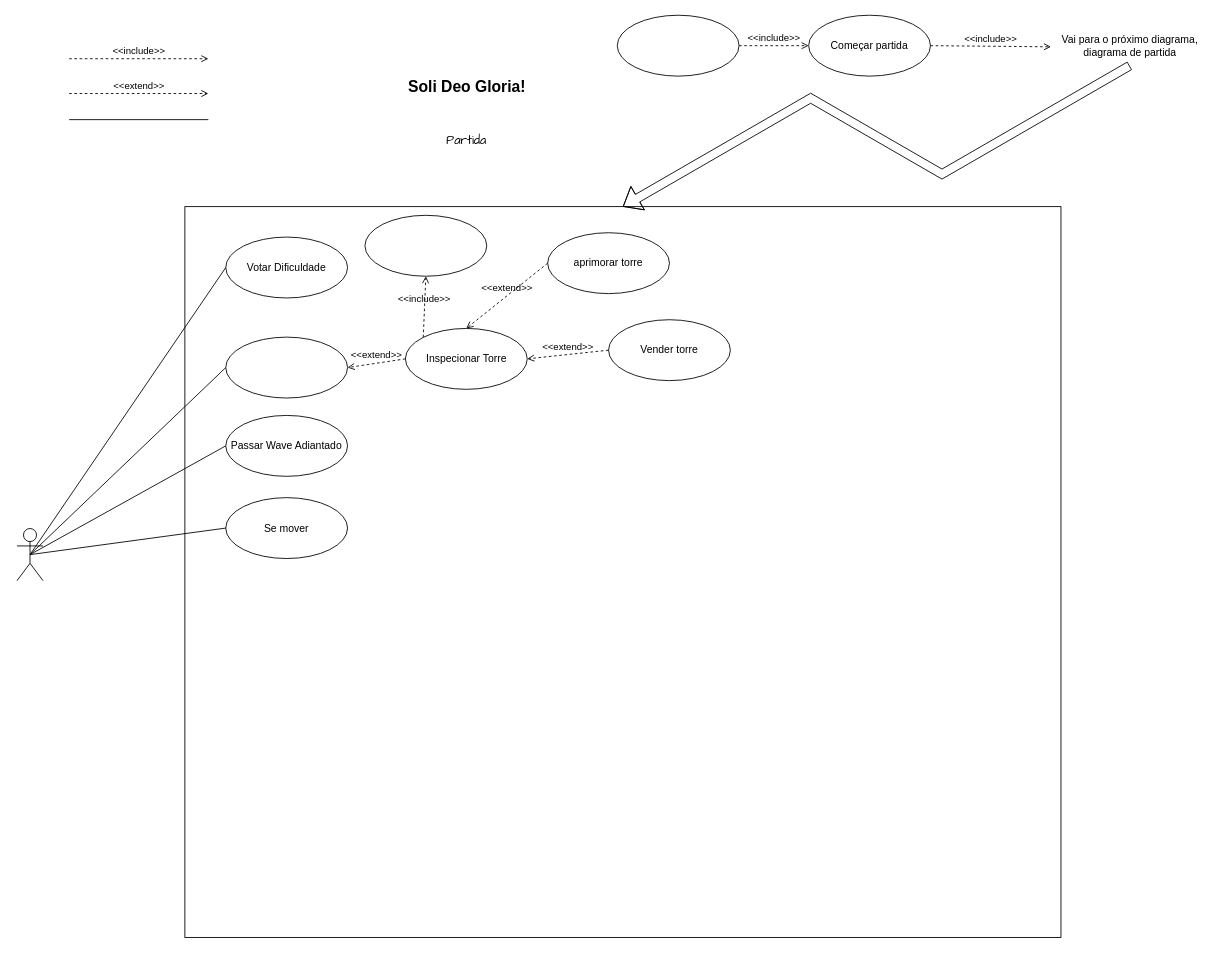
The diagram is 1222 pixels wide and 953 high, and some of its shapes have lost their labels. The centre of each missing label's shape, as x and y in pixels:
"Escolher Mapa" belongs at point (677, 45).
"Player" belongs at point (29, 554).
"Posicionar Torre" belongs at point (286, 367).
"Visualizar Status da Torre" belongs at point (425, 245).
